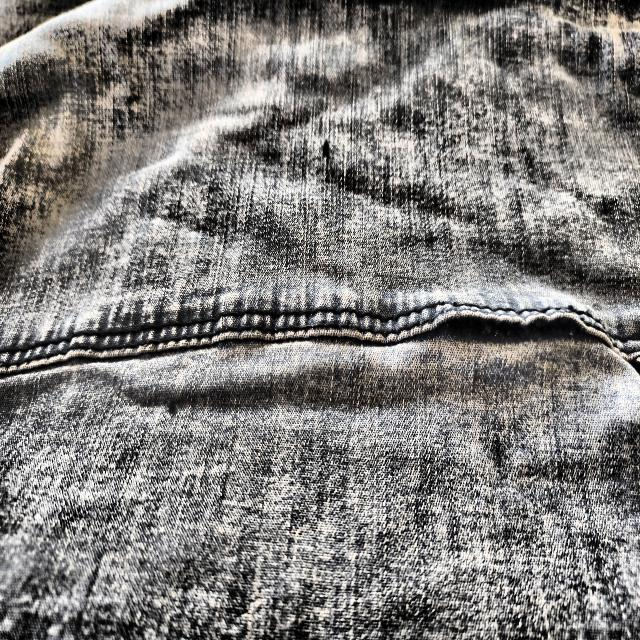seam: (398, 294, 618, 354)
